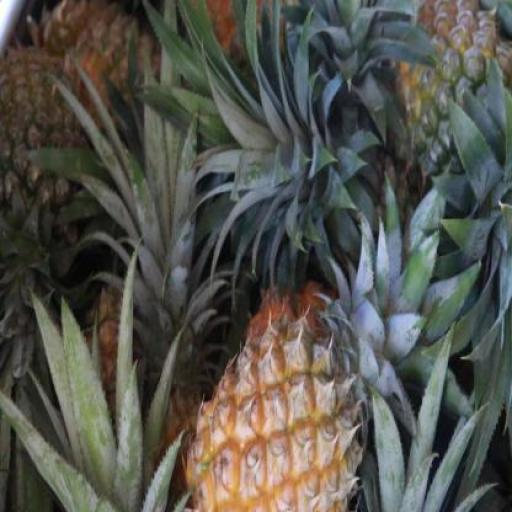------------------------------: (395, 0, 511, 177)
Pineapple - v8 v1: (185, 310, 365, 512)
